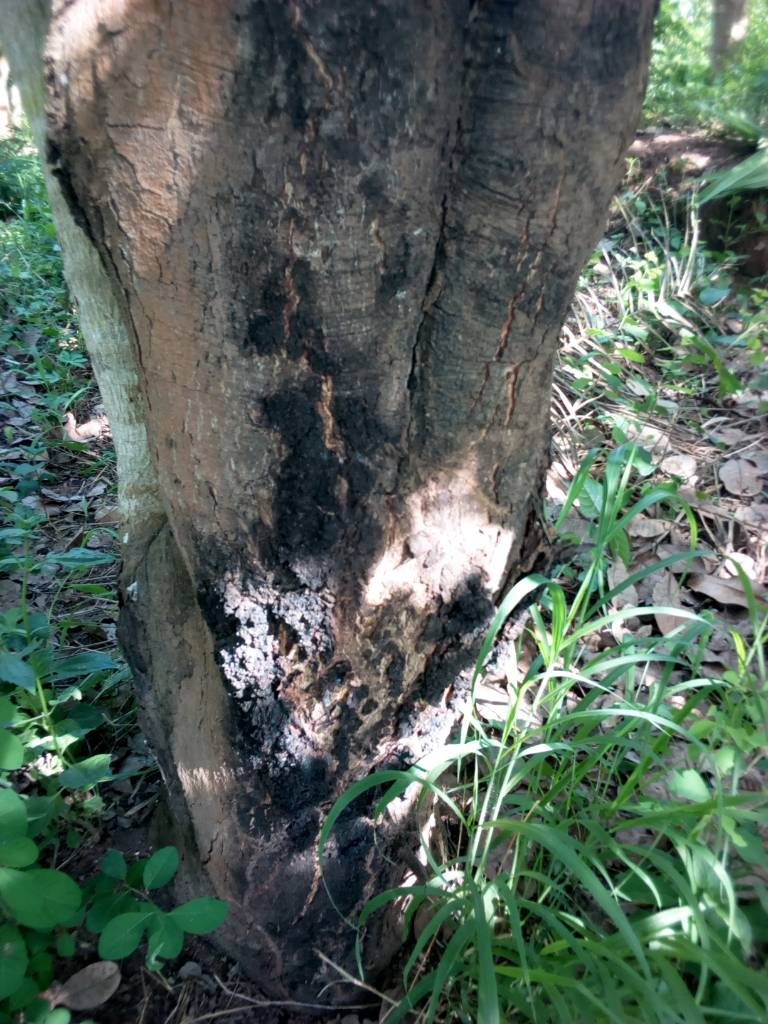Termites: (177, 475, 433, 888)
